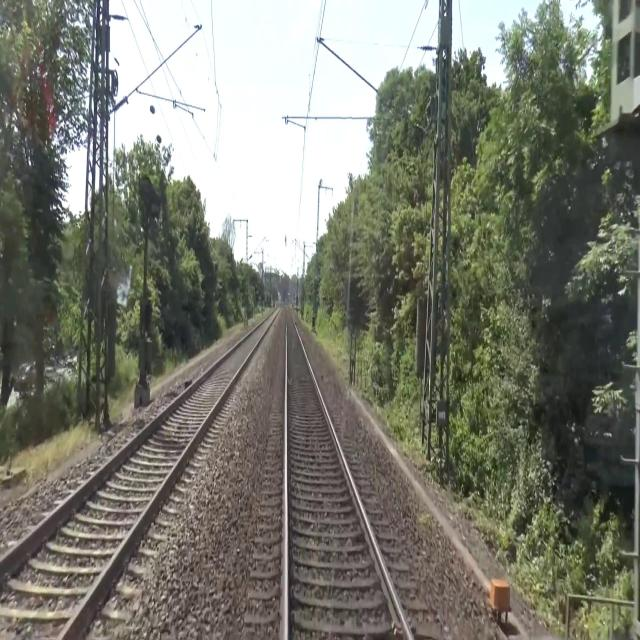rail-track: (0, 311, 277, 639), (287, 308, 409, 639)
